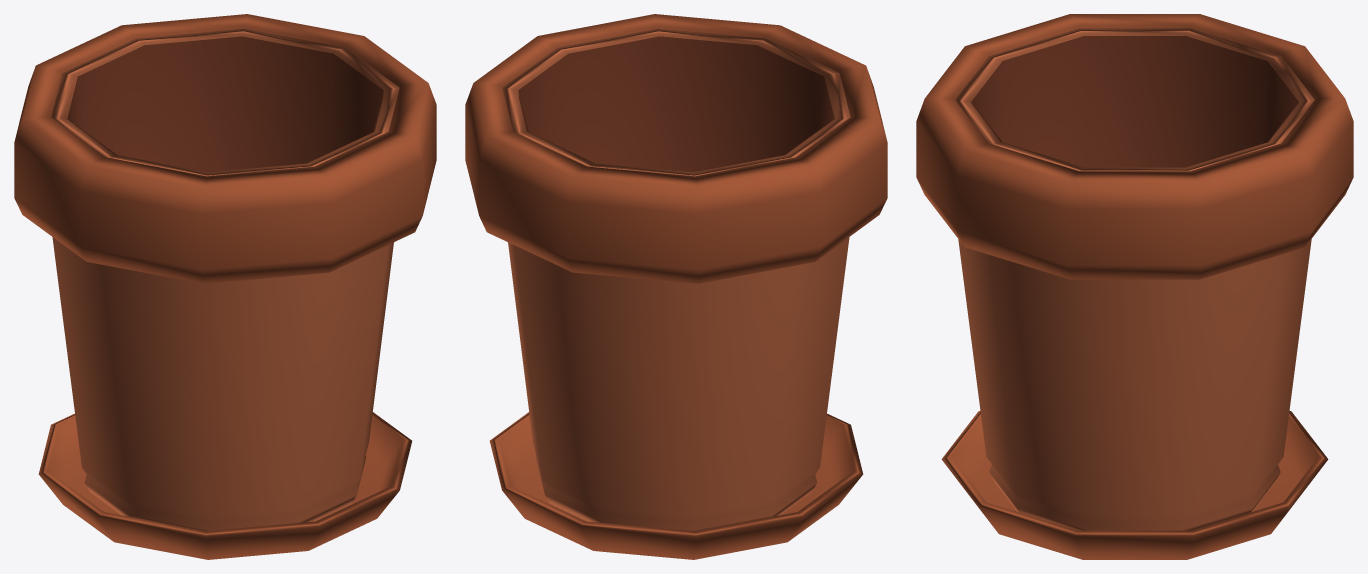
Rendered from terracotta_pot.glb.
3 views of the same model, side by side, from view 1: azimuth 30°, elevation 25°; view 2: azimuth 150°, elevation 25°; view 3: azimuth 270°, elevation 25° (orthographic).
Parts seen in each view (by area): view 1: body, rim, cavity, saucer; view 2: body, rim, cavity, saucer; view 3: body, rim, cavity, saucer.
Part boxes in pixels (x1,y1,x2,y2): body: [51, 28, 399, 531]; rim: [14, 14, 436, 283]; cavity: [67, 36, 383, 172]; saucer: [38, 412, 412, 559]; body: [502, 28, 850, 531]; rim: [465, 14, 887, 283]; cavity: [518, 36, 834, 172]; saucer: [489, 412, 863, 559]; body: [955, 28, 1314, 530]; rim: [916, 14, 1353, 279]; cavity: [971, 36, 1298, 167]; saucer: [941, 411, 1328, 559].
Bounding box in the file's own units: 0.2967 × 0.31 × 0.312.
